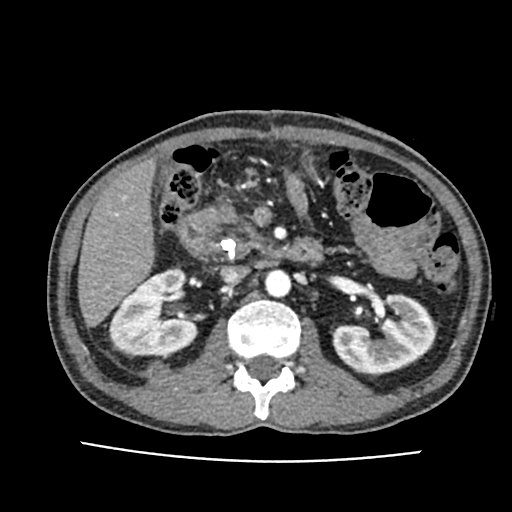aorta: (264, 268, 291, 298)
